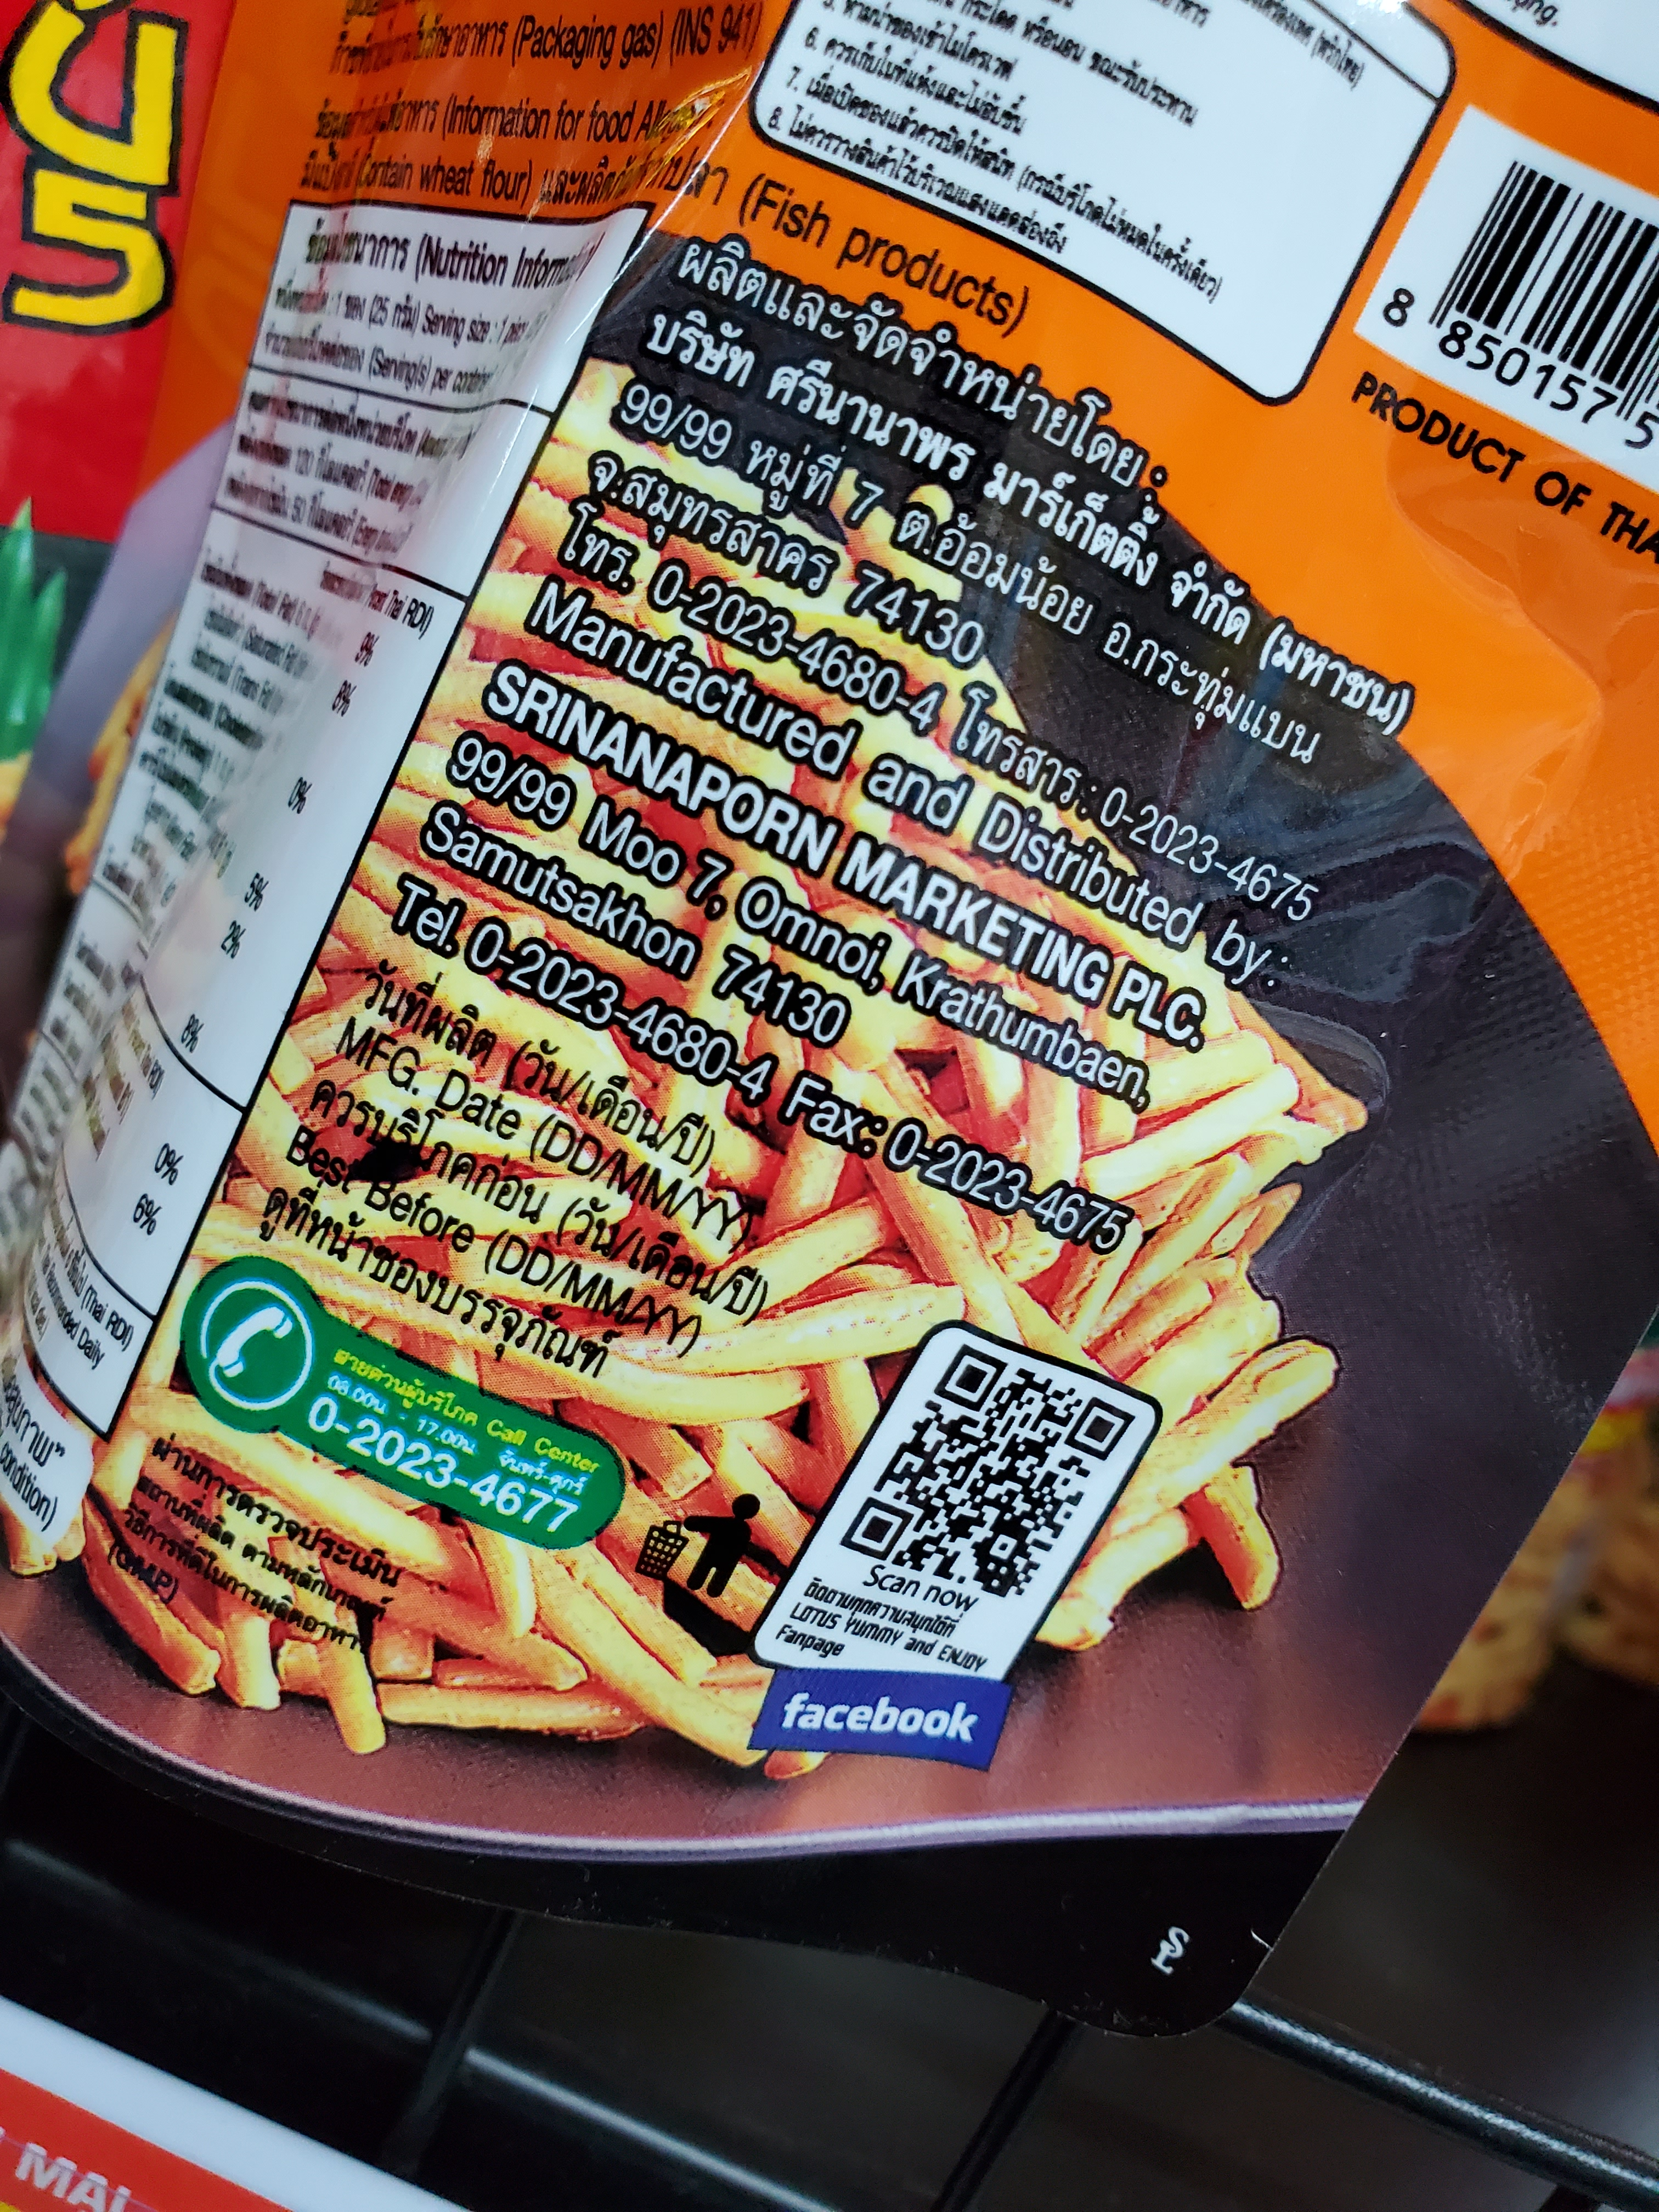qr code: (826, 1317, 1155, 1627)
